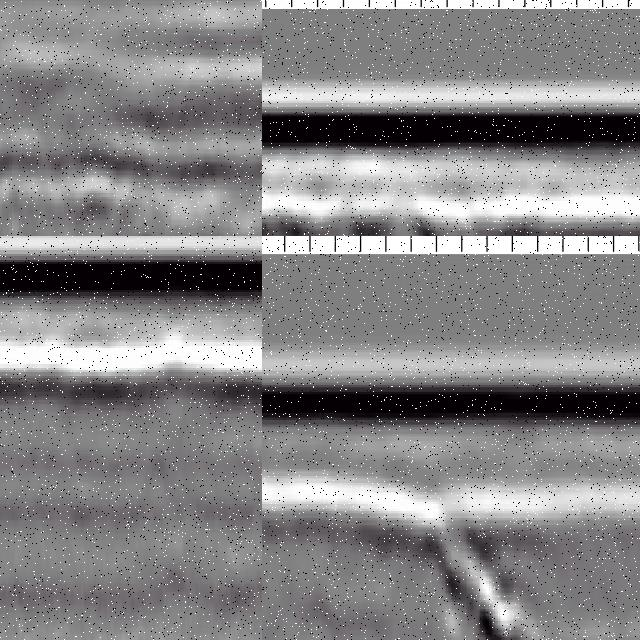loose: (428, 503, 550, 640)
